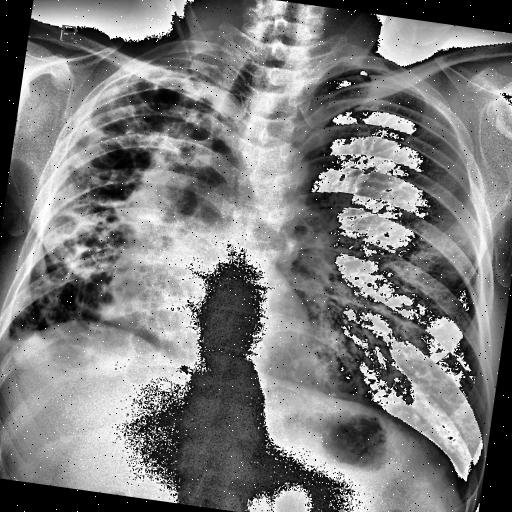1- Atelectasis: (18, 30, 256, 368), (32, 45, 230, 349)
10- Pleural effusion: (0, 315, 39, 368), (446, 475, 478, 510), (0, 323, 30, 355)
11- Pleural thickening: (0, 315, 39, 368), (446, 475, 478, 510), (0, 323, 30, 355)
13- Pulmonary fibrosis: (18, 30, 256, 368), (8, 34, 226, 358), (32, 45, 230, 349)
4- Consolidation: (106, 143, 208, 333)
5- ILD: (8, 34, 226, 358)
9- Other lesion: (18, 30, 256, 368), (32, 45, 230, 349)
